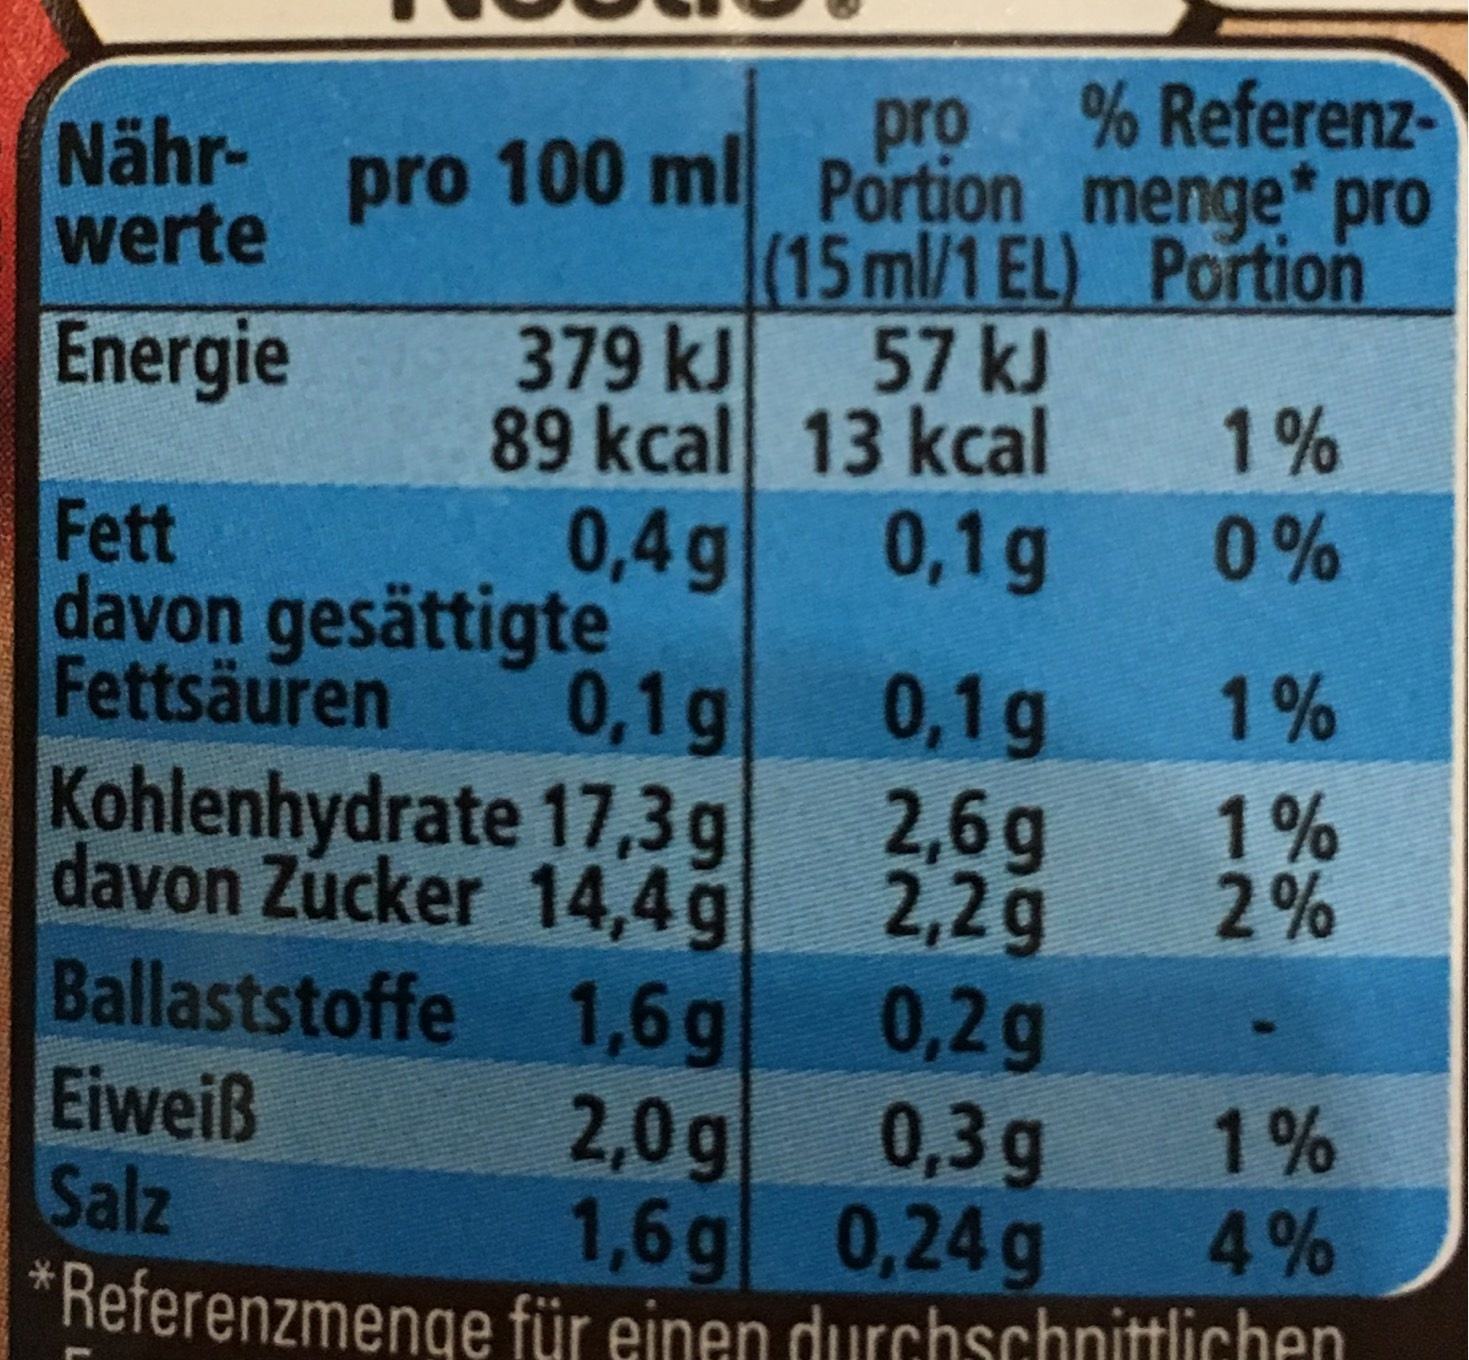column: (46, 42, 738, 1300), (1093, 45, 1436, 1297), (768, 42, 1080, 1300)
table: (8, 38, 1469, 1293)
